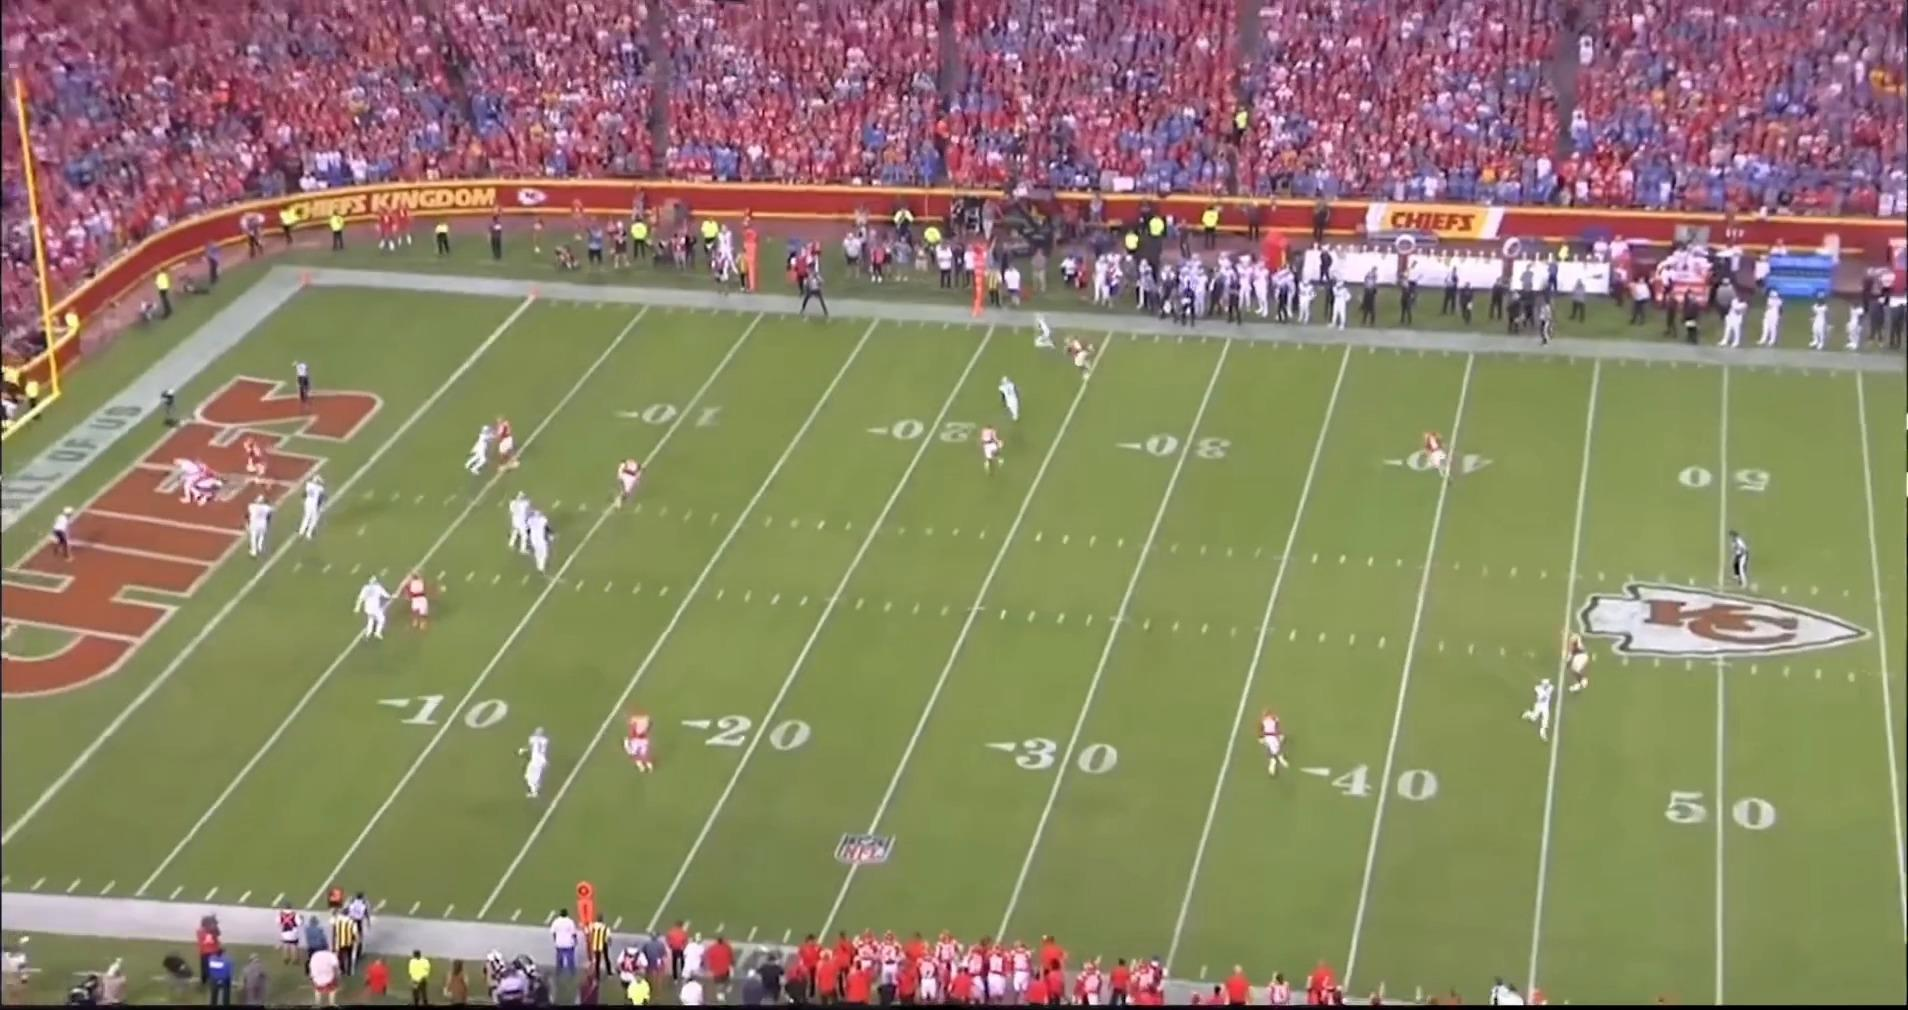defense: (1254, 710, 1293, 778), (1561, 631, 1596, 698), (627, 708, 660, 778), (609, 452, 647, 508), (497, 420, 530, 480), (401, 572, 433, 633), (241, 432, 270, 492), (1418, 429, 1449, 481), (1063, 336, 1097, 380), (975, 425, 1006, 475), (197, 461, 225, 505)
oline: (355, 579, 392, 644), (516, 509, 551, 576), (244, 491, 276, 557), (299, 475, 329, 544), (502, 494, 531, 559)
qb: (174, 454, 201, 506)
ref: (1720, 525, 1752, 590), (43, 502, 77, 562), (801, 269, 834, 318), (291, 353, 315, 409), (1532, 300, 1558, 348)
skill: (521, 726, 555, 802), (1522, 675, 1558, 742), (463, 423, 500, 480), (993, 374, 1021, 423), (1028, 314, 1059, 356)
